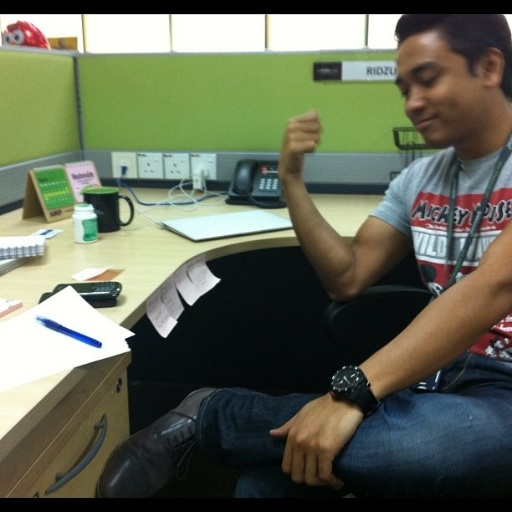hand: (269, 370, 380, 492), (278, 107, 322, 174)
